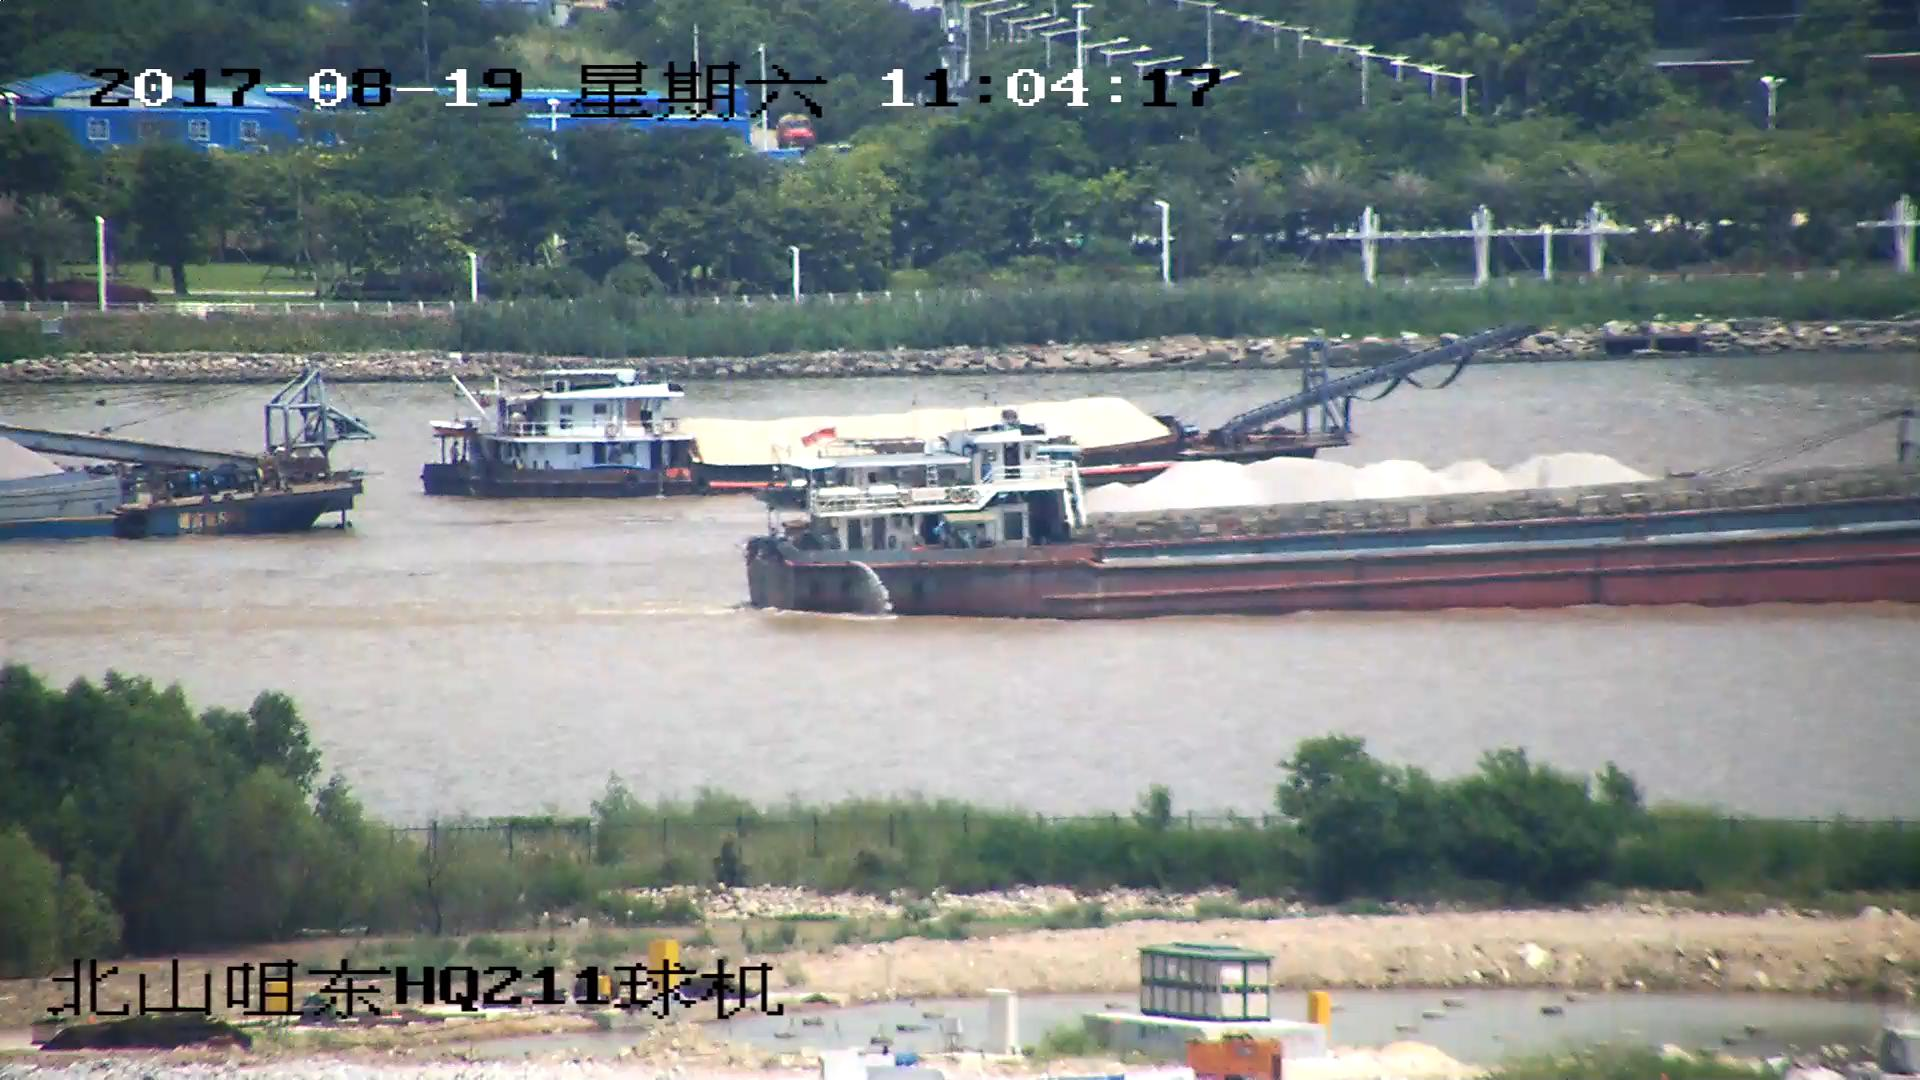bulk cargo carrier: (747, 452, 1919, 617)
ore carrier: (418, 330, 1540, 499), (768, 438, 1640, 521), (1, 370, 379, 538)
